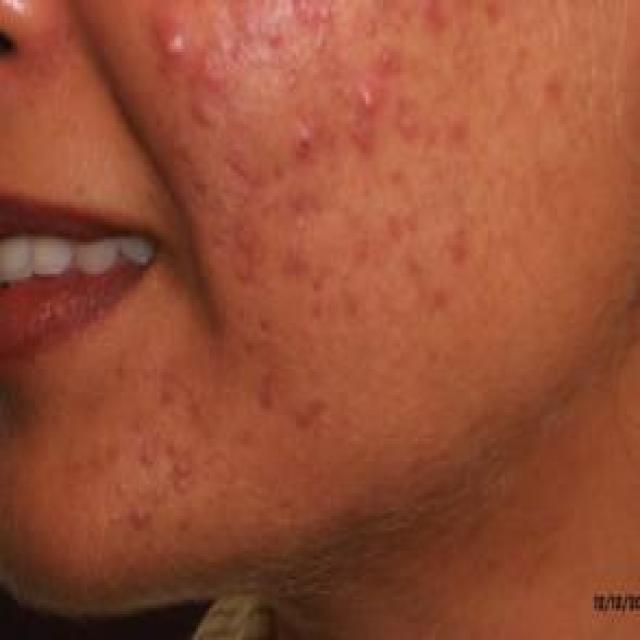Acne: (291, 103, 340, 167), (194, 24, 234, 96), (348, 73, 384, 152), (150, 10, 192, 74), (288, 0, 344, 35), (384, 200, 418, 250), (124, 499, 156, 537), (168, 448, 196, 491), (186, 96, 218, 132), (374, 38, 404, 75), (260, 20, 290, 52), (450, 228, 470, 268)
